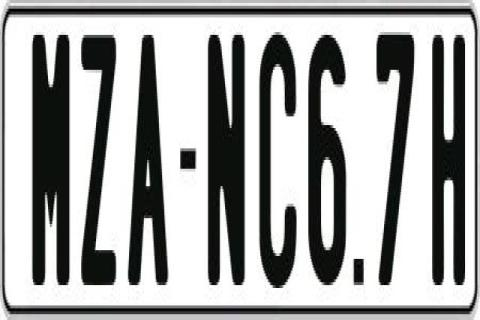0: (374, 35, 415, 294), (308, 26, 346, 288)
A: (128, 35, 174, 291)
C: (256, 35, 300, 299)
H: (432, 26, 465, 288)
M: (29, 26, 72, 294)
N: (207, 35, 248, 299)
Z: (80, 32, 118, 296)
